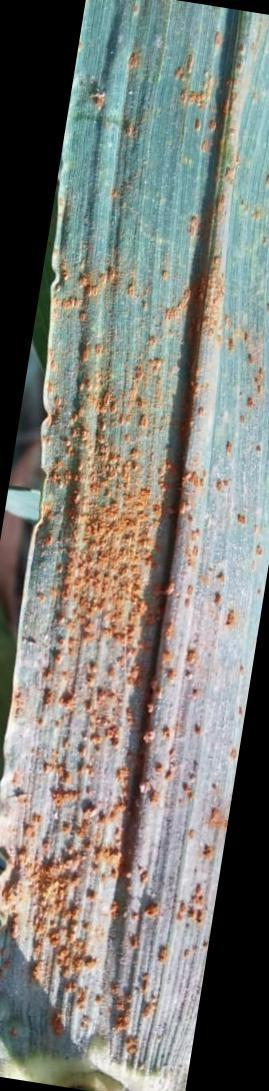Wheat: (0, 180, 168, 1046), (108, 20, 248, 170), (33, 770, 36, 773)
